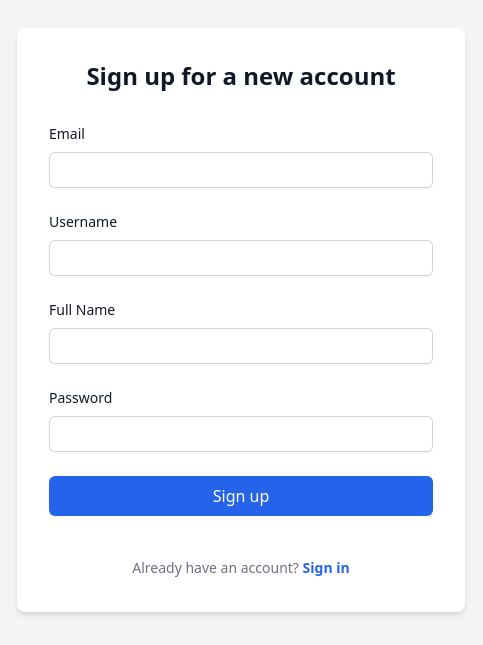
Test: SignUp Component › should show error if user with such email already exist
Type "test@test.com" into the field labelled "Email" at [241, 170], box x1=49 y1=152 x2=433 y2=188
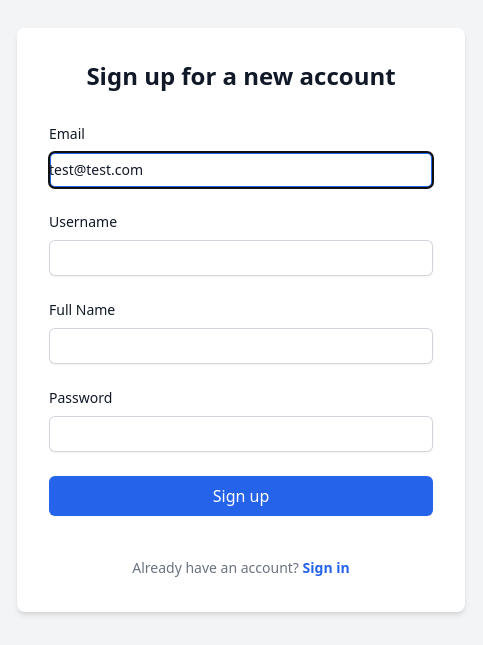
Type "testusername" into the field labelled "Username" at [241, 258], box x1=49 y1=240 x2=433 y2=276
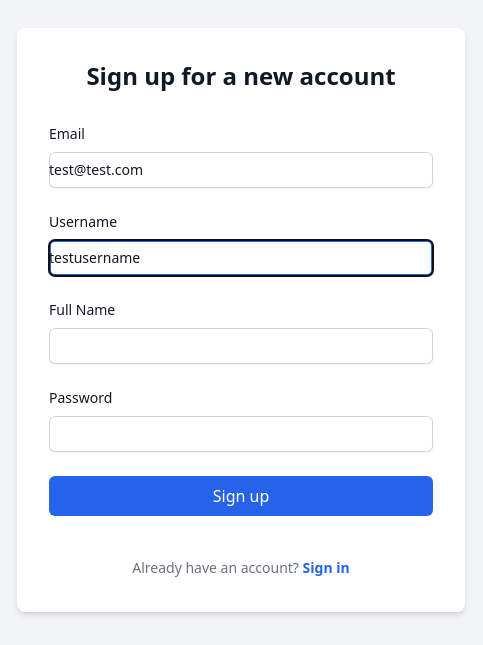
Type "Test User" into the field labelled "Full Name" at [241, 346], box x1=49 y1=328 x2=433 y2=364
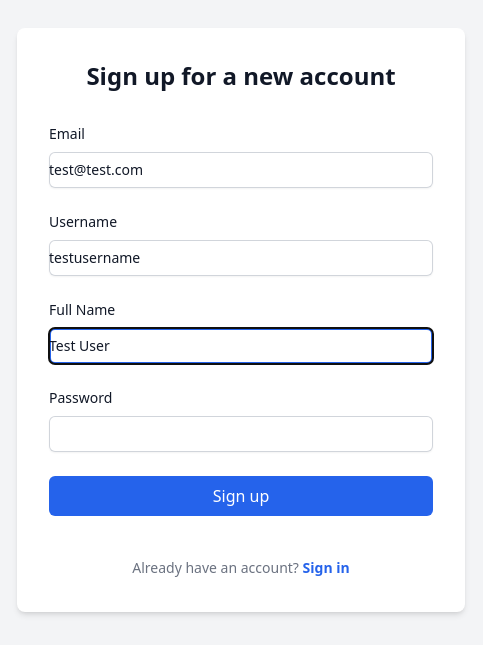
Type "password" into the password field labelled "Password" at [241, 434], box x1=49 y1=416 x2=433 y2=452
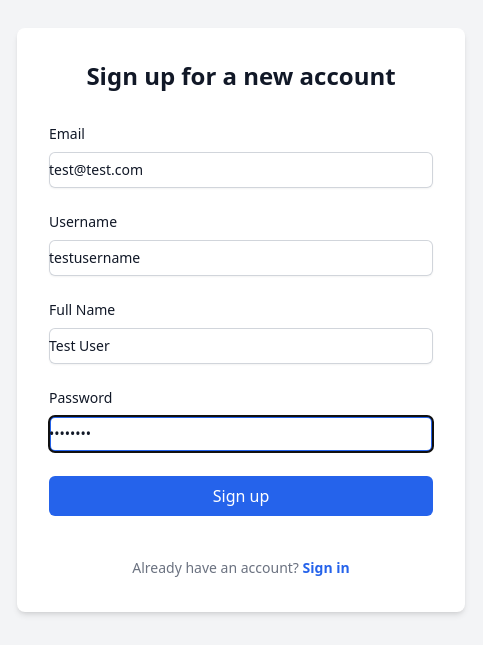
Click the button "Sign up" at [241, 496], box x1=49 y1=476 x2=433 y2=516
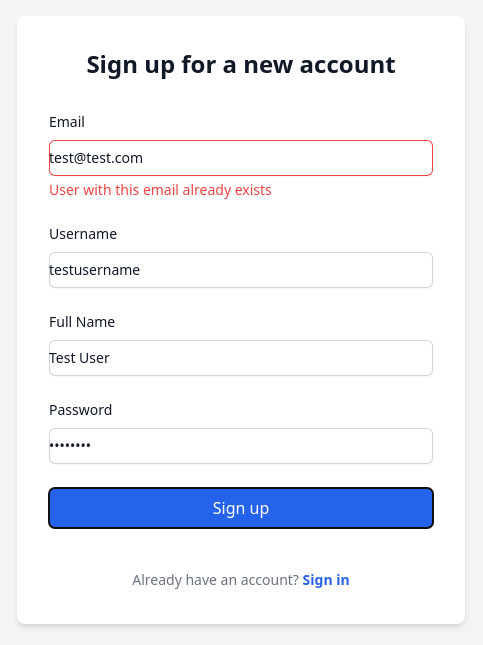
Now the text "User with this email already exists" is shown, box x1=49 y1=180 x2=272 y2=199
